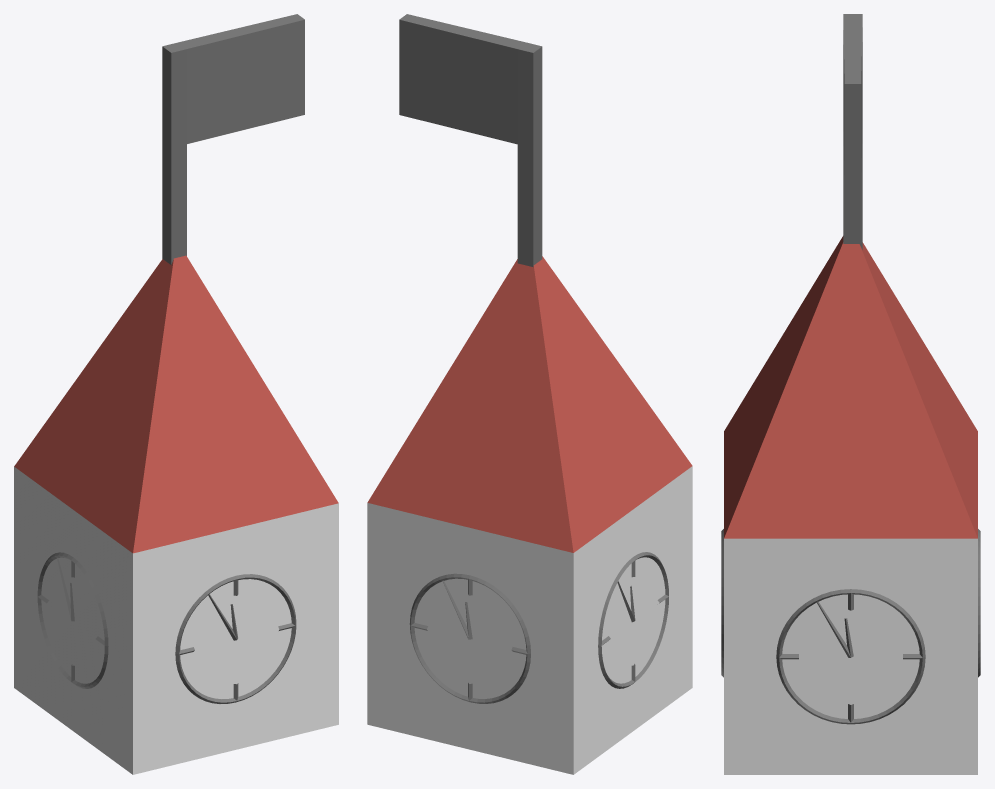
The model's file is townhall.glb.
3 renders of one model, left to right at view 1: azimuth 30°, elevation 25°; view 2: azimuth 150°, elevation 25°; view 3: azimuth 270°, elevation 25°, orthographic. The views are drawn at different scales.
Visible parts, largest first — view 1: Townhall; view 2: Townhall; view 3: Townhall.
Part boxes in pixels (<box>): Townhall: <box>14,14,338,774</box>; Townhall: <box>367,14,692,774</box>; Townhall: <box>721,14,980,774</box>.
Bounding box in the file's own units: 0.2158 × 0.5877 × 0.1968.
